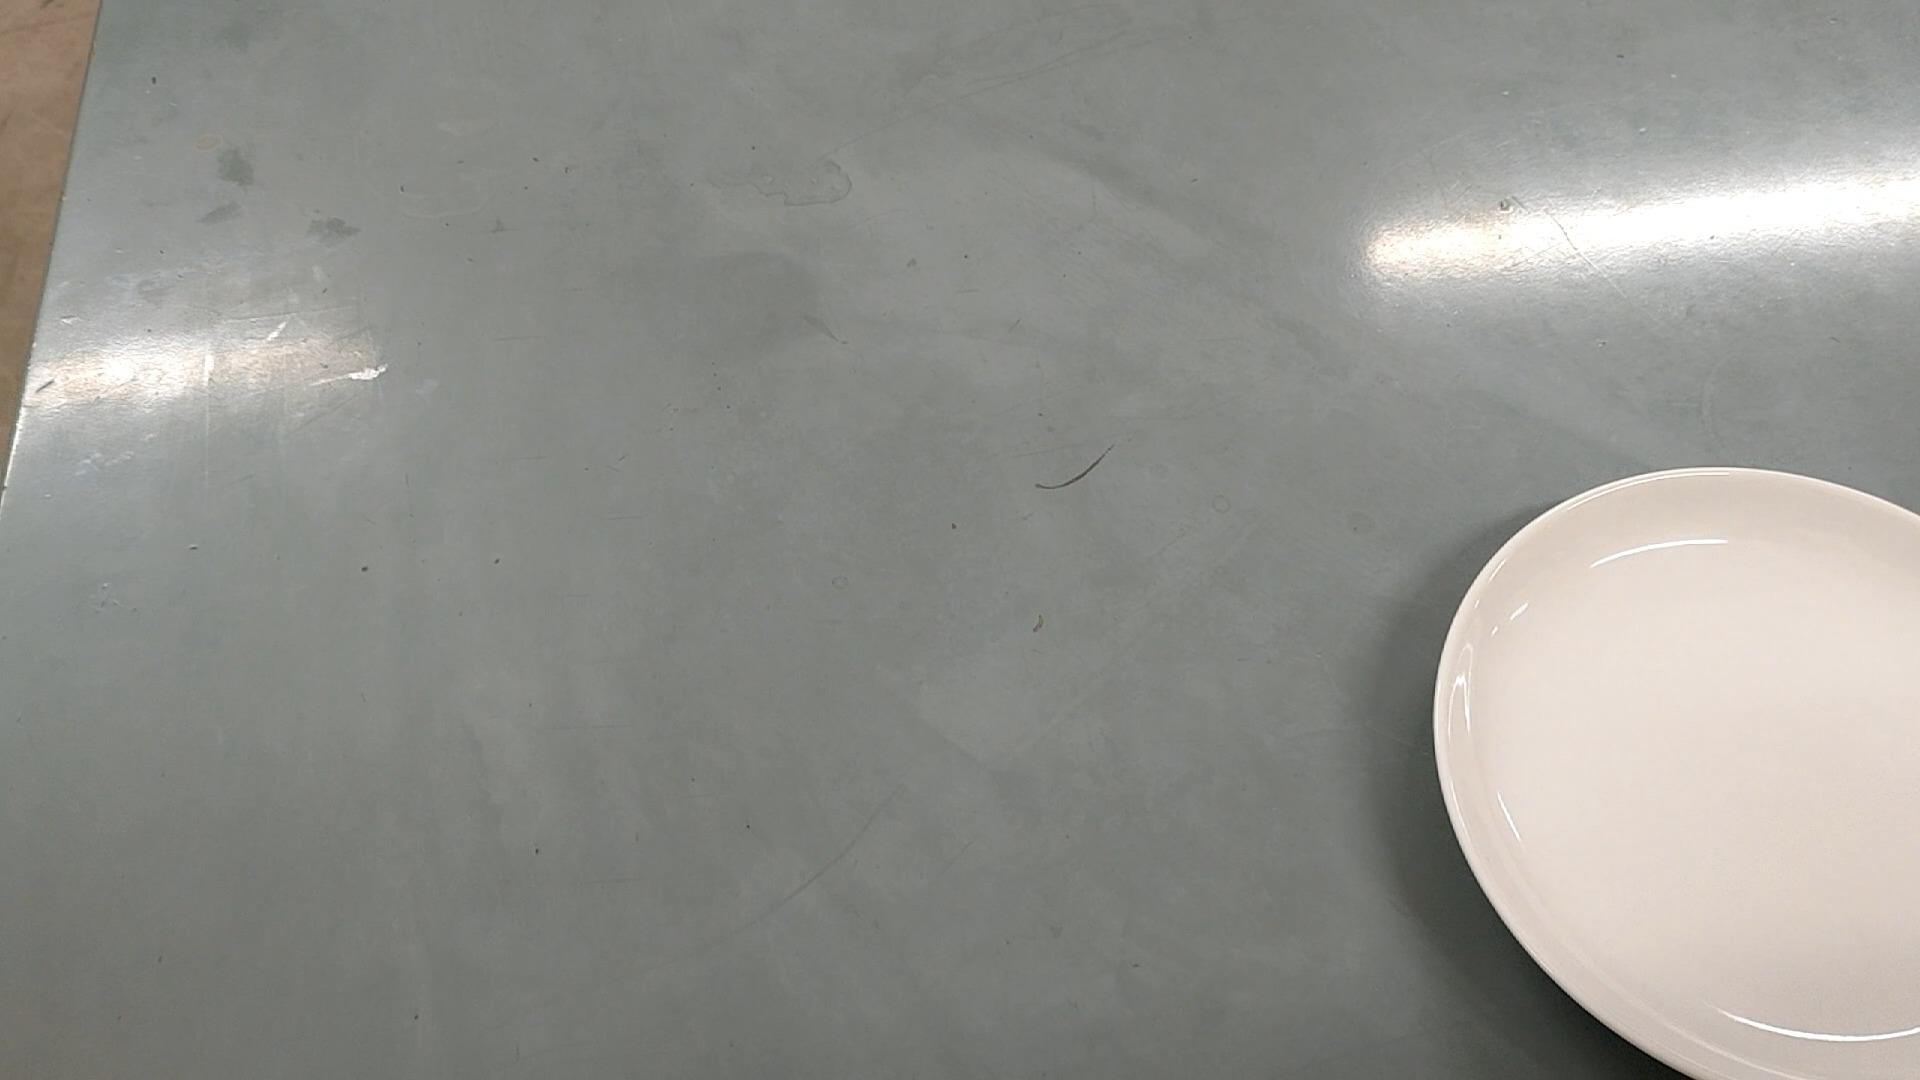plate: (1436, 458, 1920, 1080)
